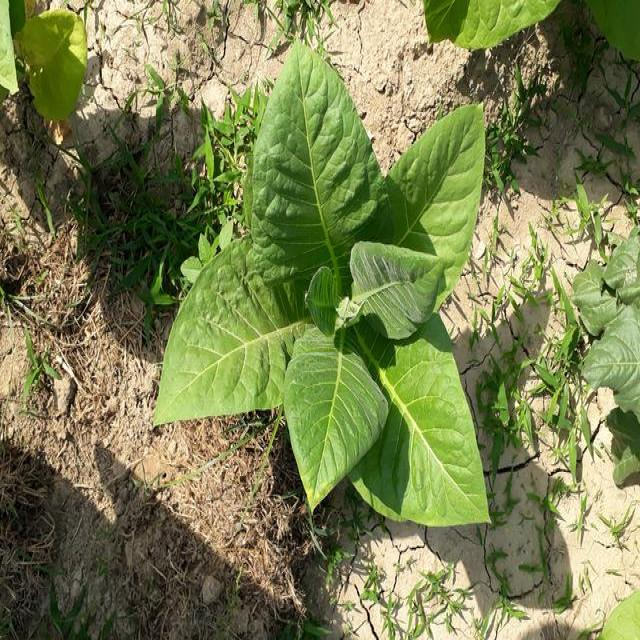crop: (146, 52, 493, 557), (410, 0, 634, 68), (574, 231, 640, 417), (0, 0, 81, 122)
